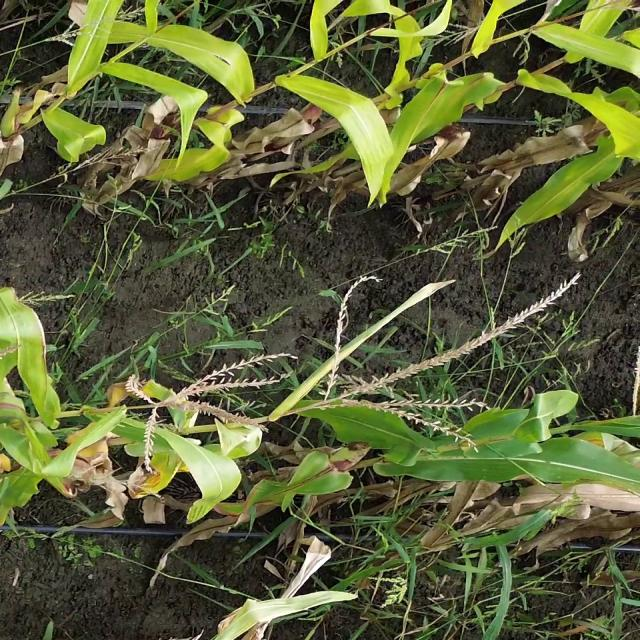northern-leaf-blight: (128, 412, 206, 492)
southern-leaf-blight: (472, 434, 629, 504)
